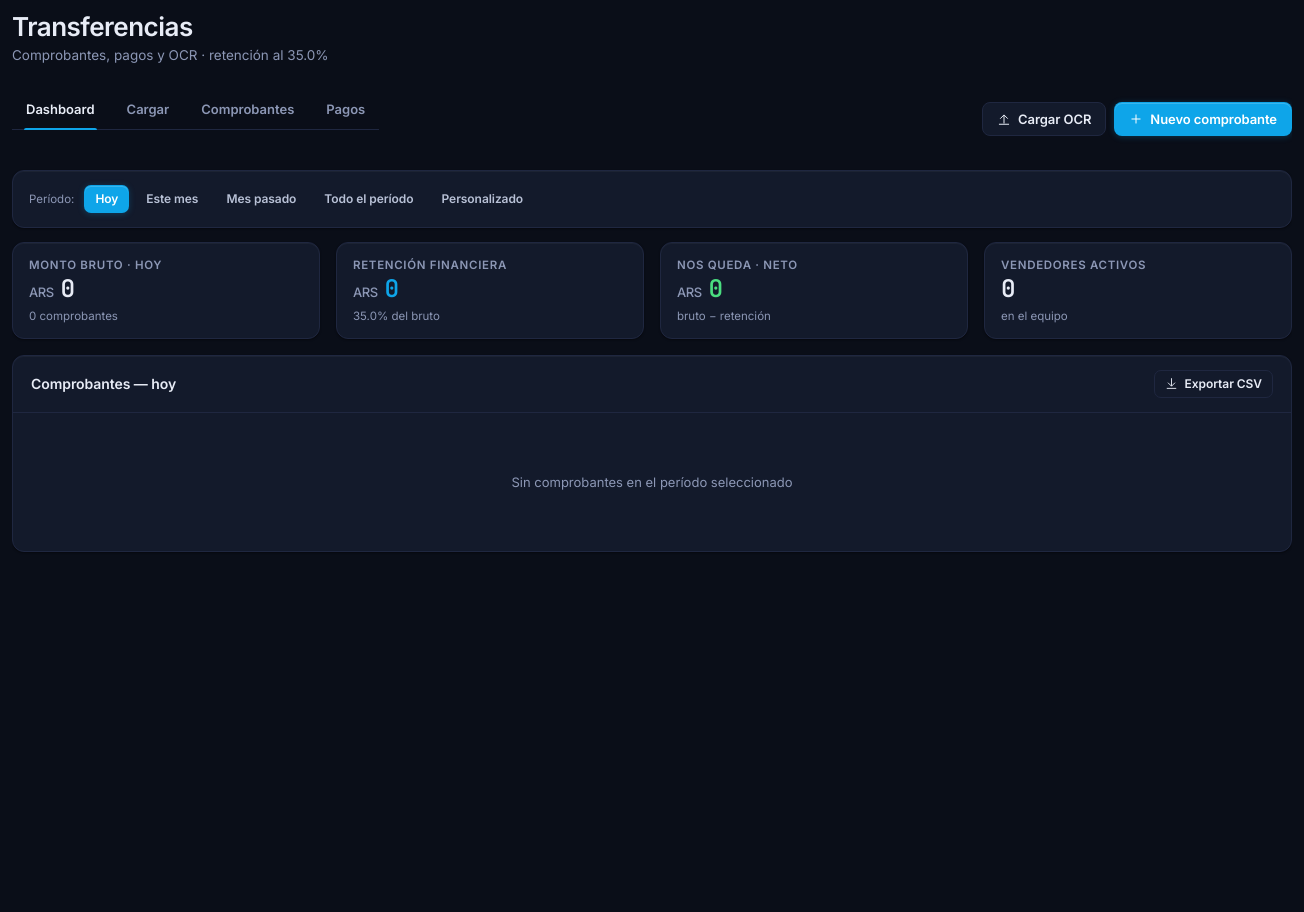
it: Financiera — form Pagos (TANDAs 1-3 sprint USD) › F5: tenant UY filtra cajas UYU (no muestra ARS) en el select del form
Click the button "Pagos".
click(346, 109)  # box [312,89,379,129]
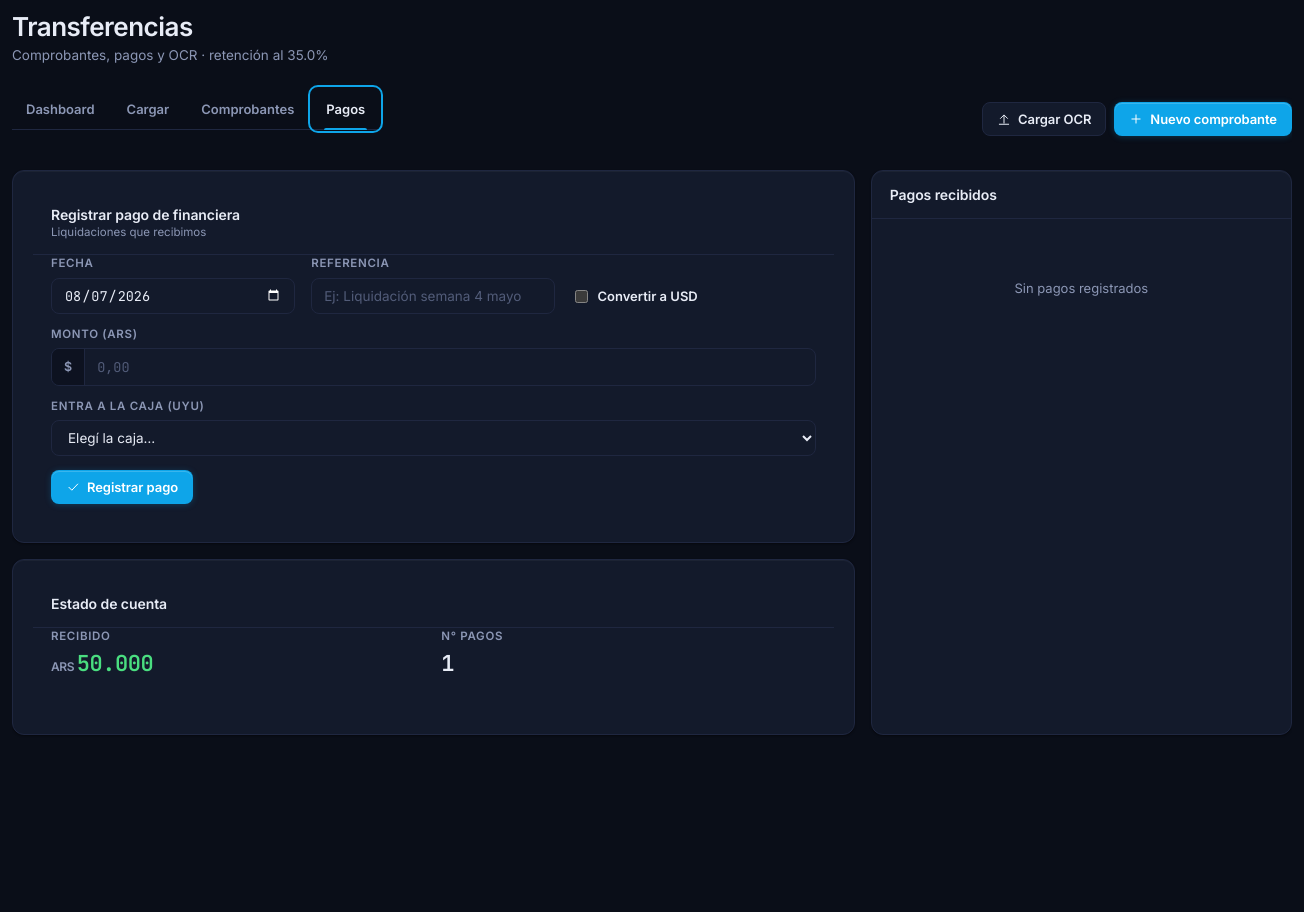
Expected: the heading "Registrar pago de financiera" is shown, [51,205,240,224]
Expected: the text "Entra a la caja (UYU)" is shown, [51,399,205,413]
